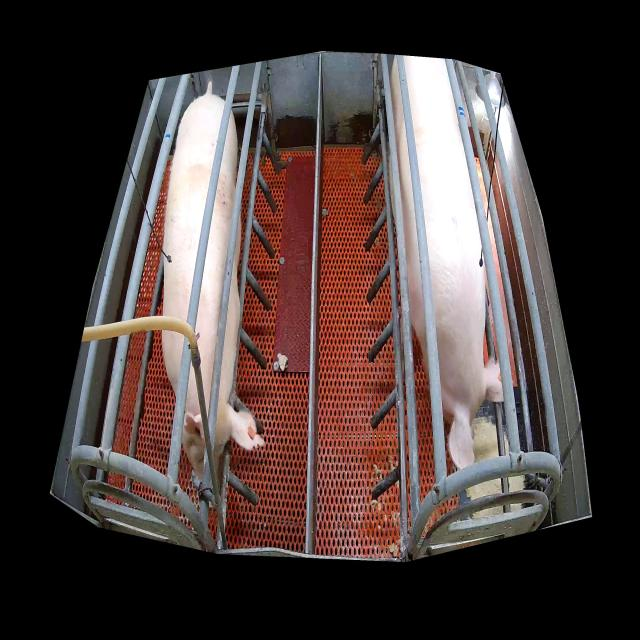pig: (390, 57, 504, 470), (162, 96, 264, 496)
